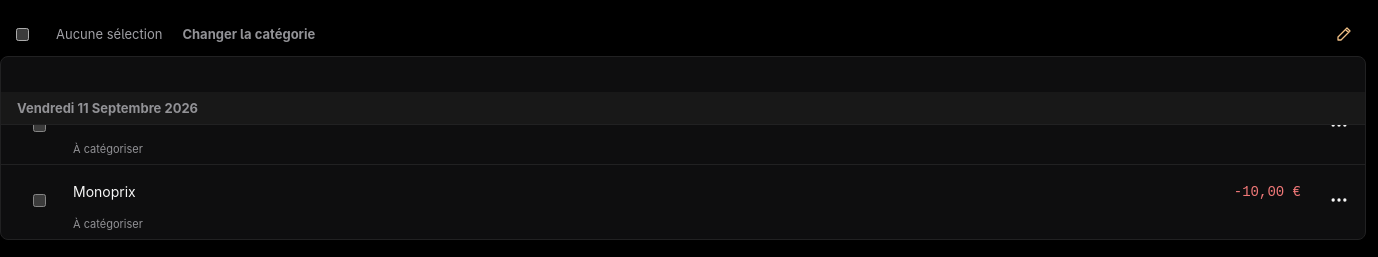
it: bulk selection › keeps the category action disabled until something is selected
Expected: the button "Changer la catégorie" is disabled, x1=174 y1=12 x2=323 y2=56
Click the checkbox named "Sélectionner Carrefour".
click(40, 125)  # box x1=33 y1=118 x2=46 y2=132
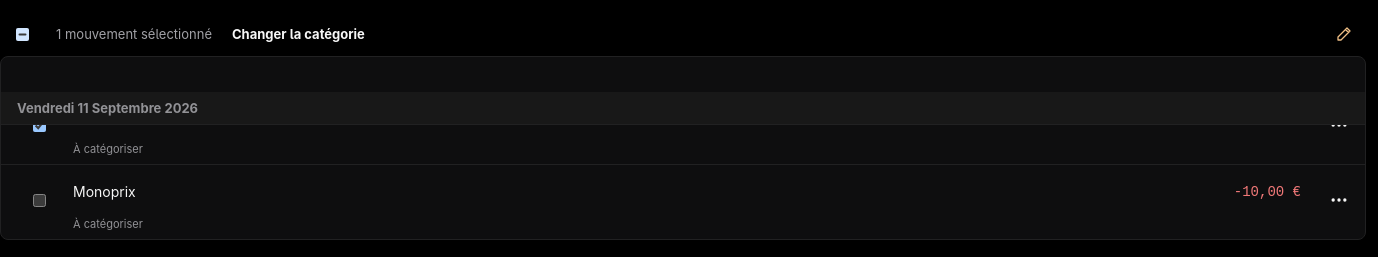
Now the button "Changer la catégorie" is enabled, box x1=224 y1=12 x2=373 y2=56
